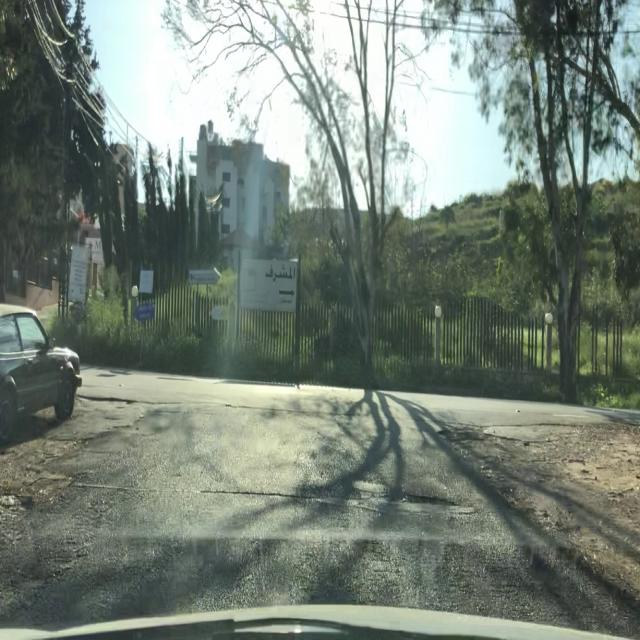Pothole: (384, 490, 462, 509), (82, 392, 136, 408), (437, 427, 481, 442)
